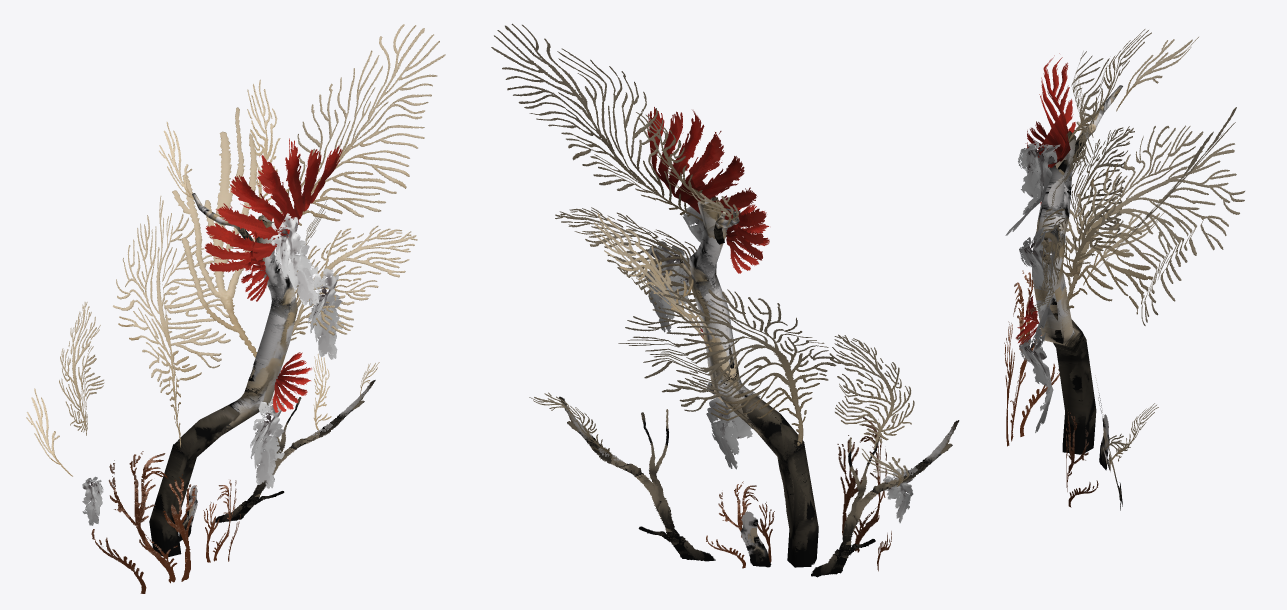
The picture shows the model from 3 angles, left to right: view 1: azimuth 30°, elevation 25°; view 2: azimuth 150°, elevation 25°; view 3: azimuth 270°, elevation 25°; orthographic projection. The views are drawn at different scales.
Parts seen in each view (by area): view 1: C04; view 2: C04; view 3: C04.
Part boxes in pixels (left/top/right/bottom): C04: left=26, top=24, right=445, bottom=593; C04: left=491, top=23, right=959, bottom=577; C04: left=1004, top=29, right=1244, bottom=510.
Size of the model in its own units: 796 by 865 by 363.
